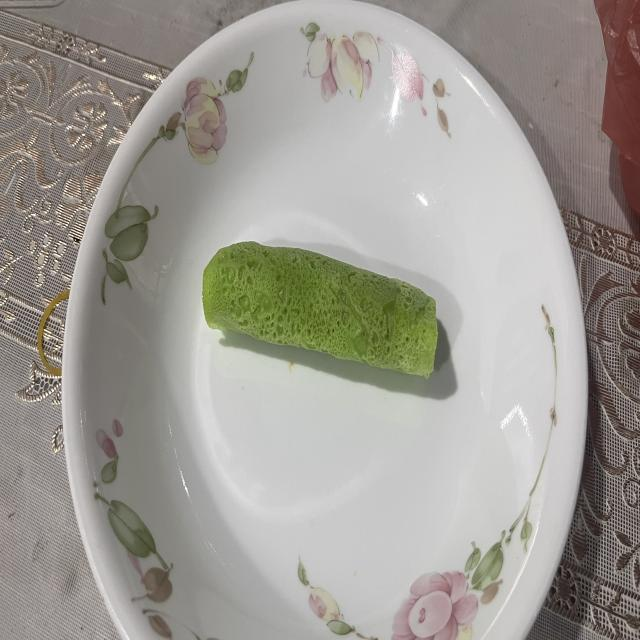Kuih-Ketayap: (202, 242, 438, 378)
